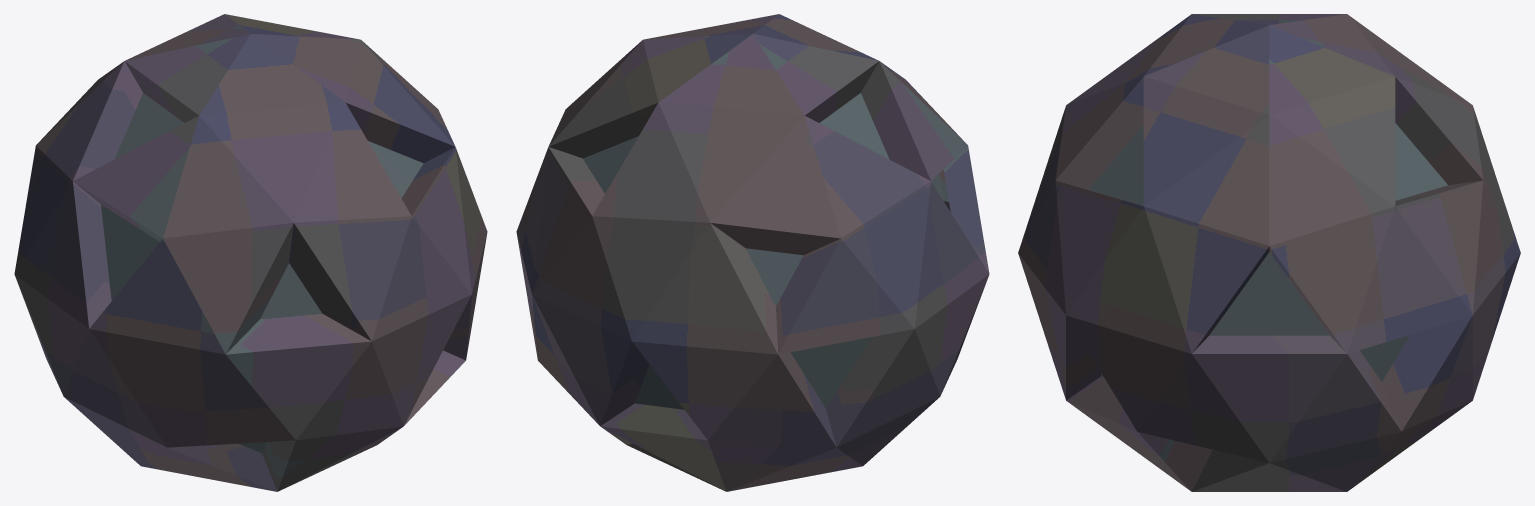
File: asteroid2.fbx
3 views of the same model, side by side, from view 1: azimuth 30°, elevation 25°; view 2: azimuth 150°, elevation 25°; view 3: azimuth 270°, elevation 25° (orthographic). The views are drawn at different scales.
Visible parts, largest first — view 1: Icosphere; view 2: Icosphere; view 3: Icosphere.
Boxes of the visible parts, <box> form: Icosphere: <box>14,14,487,491</box>; Icosphere: <box>516,14,989,491</box>; Icosphere: <box>1018,14,1520,491</box>.
Bounding box in the file's own units: 190 × 200 × 200.
